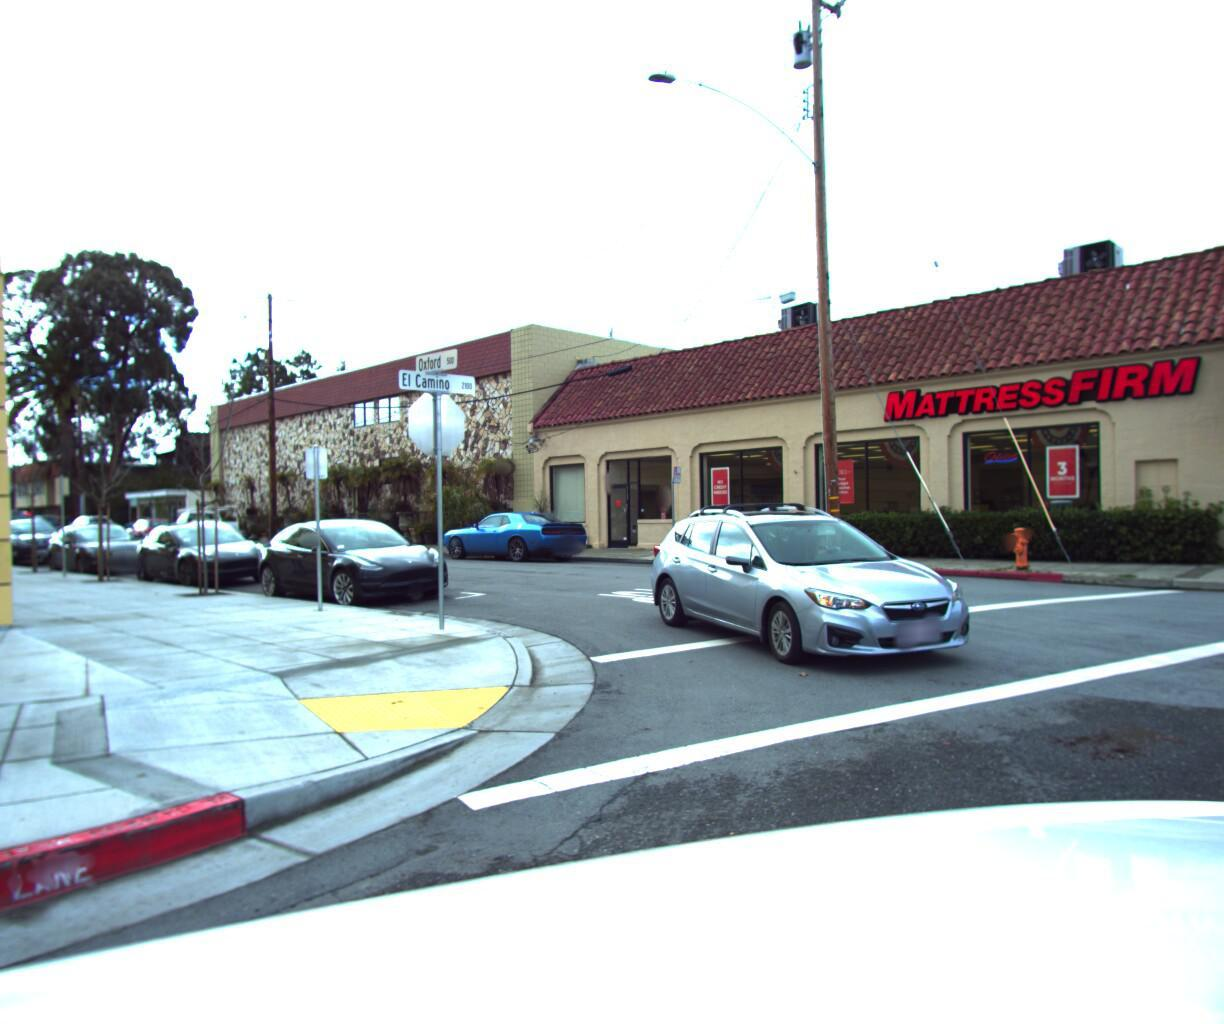car: (635, 491, 1008, 691), (251, 517, 468, 617), (127, 519, 285, 594), (436, 508, 595, 567), (45, 521, 159, 579), (0, 516, 78, 568), (167, 501, 244, 548), (121, 510, 184, 546), (69, 513, 122, 543), (30, 514, 78, 539)
